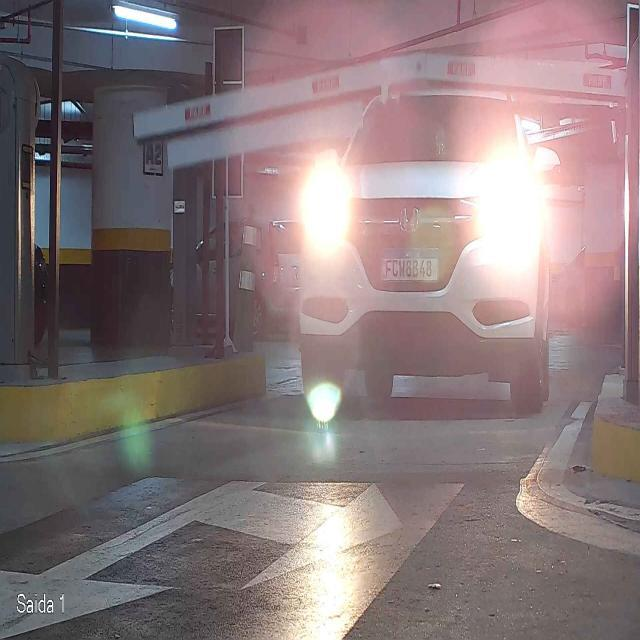mercosul_plate: (377, 245, 442, 283)
